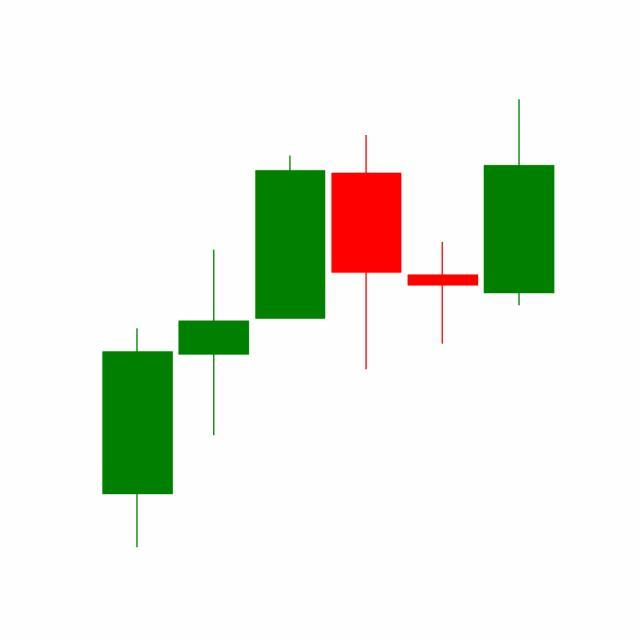Morning Star: (326, 99, 555, 373)
